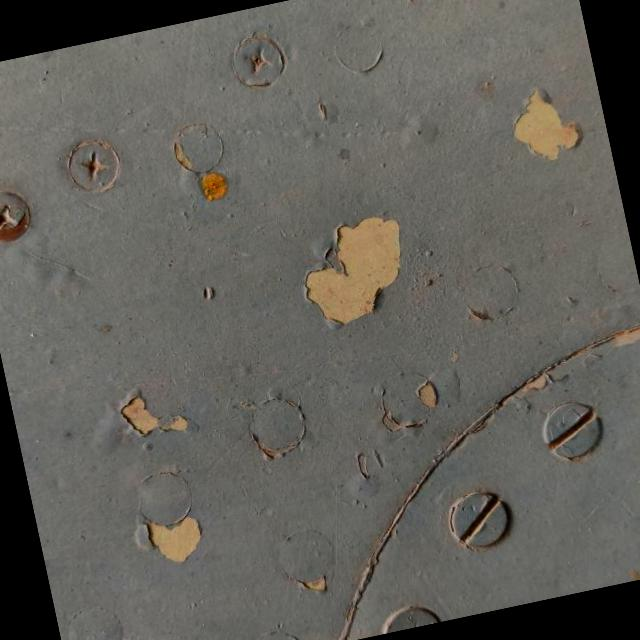paint-off: (284, 264, 458, 436), (454, 486, 576, 600), (176, 98, 277, 207), (55, 123, 153, 229)
